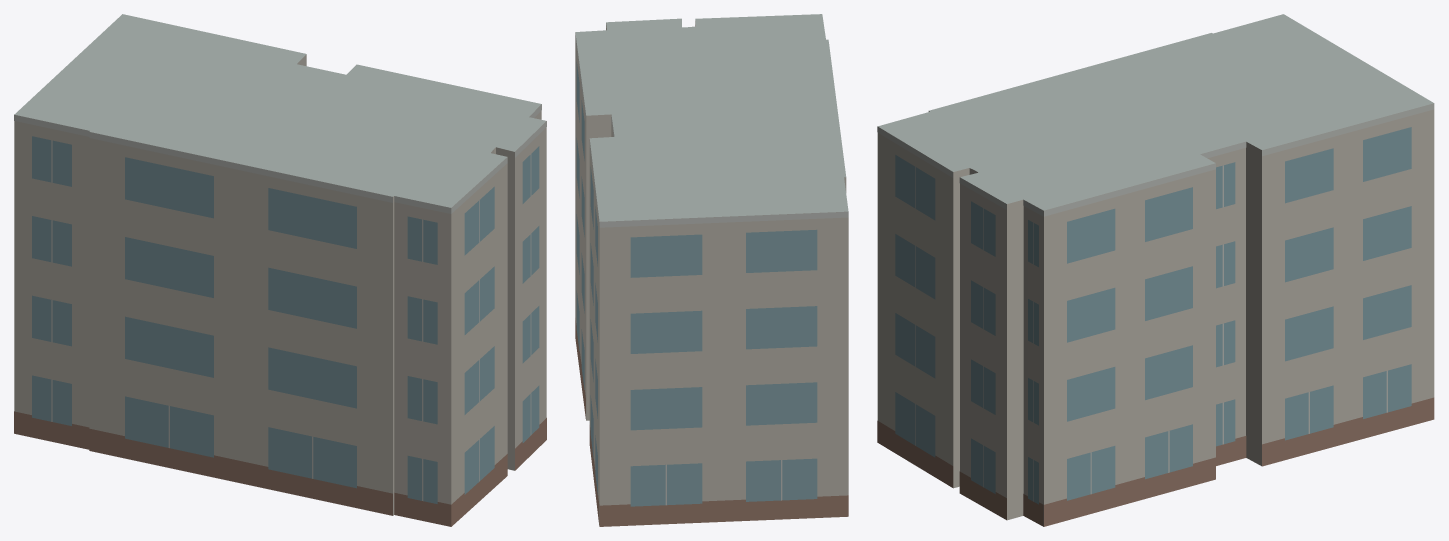
The model's file is survey-upis-32959874.glb.
3 views of the same model, side by side, from view 1: azimuth 30°, elevation 25°; view 2: azimuth 150°, elevation 25°; view 3: azimuth 270°, elevation 25° (orthographic). The views are drawn at different scales.
Parts seen in each view (by area): view 1: survey-upis-32959874.tmp; view 2: survey-upis-32959874.tmp; view 3: survey-upis-32959874.tmp.
Boxes of the visible parts, x1=… form: survey-upis-32959874.tmp: x1=14, y1=14, x2=546, y2=526; survey-upis-32959874.tmp: x1=575, y1=14, x2=848, y2=526; survey-upis-32959874.tmp: x1=877, y1=14, x2=1434, y2=526.
Size of the model in its own units: 16.82 by 12.6 by 20.12.
